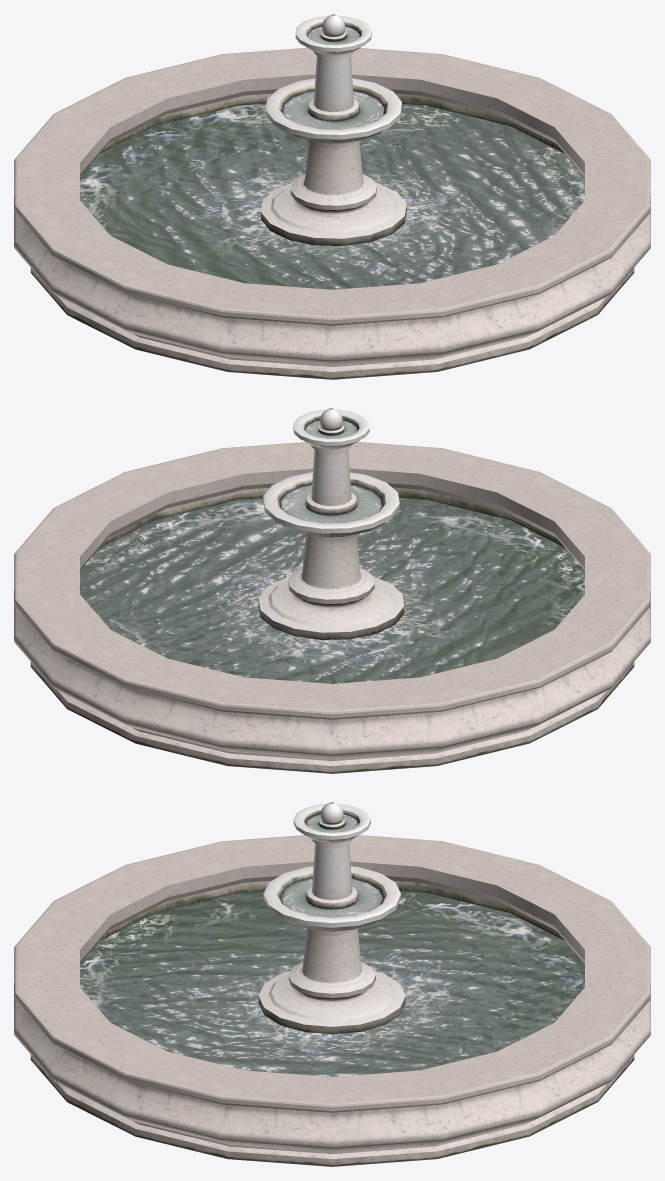
The model's file is fontana_normale.001_LOD0.fbx.
3 renders of one model, top to bottom at view 1: azimuth 30°, elevation 25°; view 2: azimuth 150°, elevation 25°; view 3: azimuth 270°, elevation 25°, orthographic.
Visible parts, largest first — view 1: fontana_normale_001; view 2: fontana_normale_001; view 3: fontana_normale_001.
Boxes of the visible parts, x1=… form: fontana_normale_001: x1=14, y1=14, x2=650, y2=379; fontana_normale_001: x1=14, y1=408, x2=650, y2=773; fontana_normale_001: x1=14, y1=802, x2=650, y2=1166.
Size of the model in its own units: 653 by 262 by 643.
